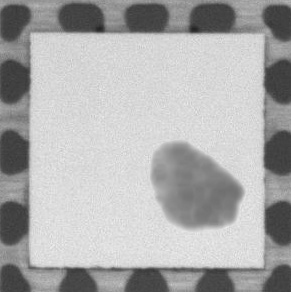DIE_INK: (149, 138, 242, 232)
